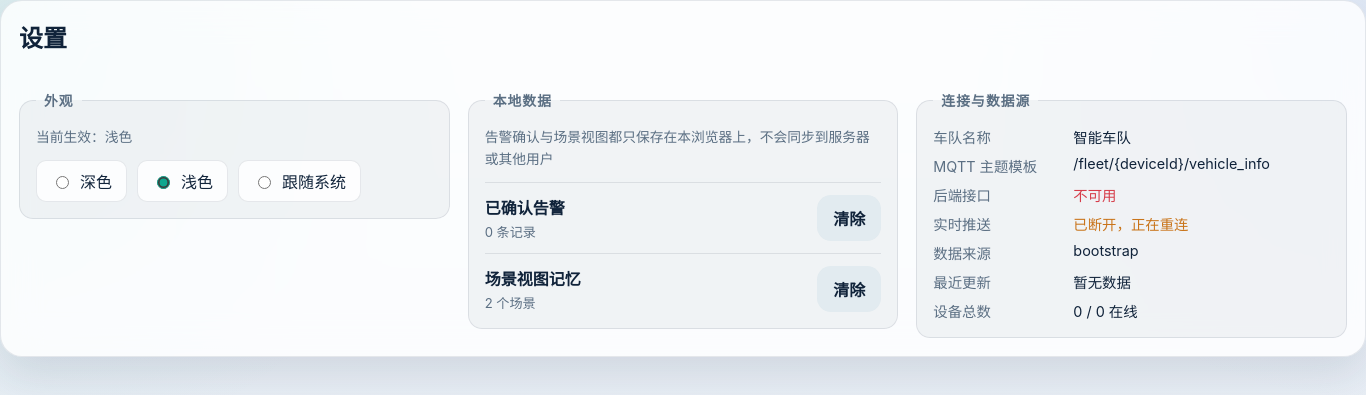
it: SettingsView local data › reports and clears remembered scene views
Step 1. Click the button "清除" in the row of "场景视图记忆" → (849, 289), box [817,266,881,312]
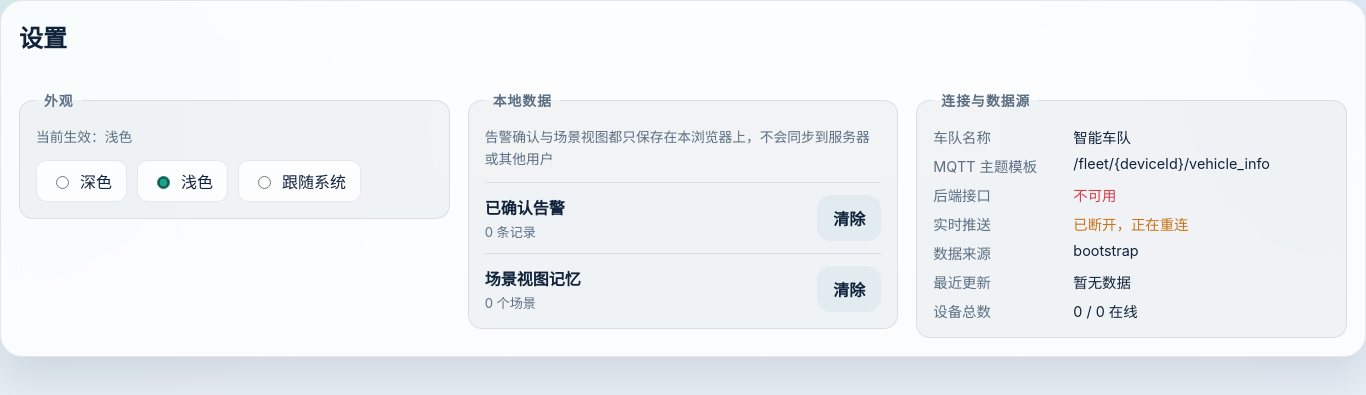
Expected: the text "0 个场景" is shown, [485,295,536,311]
